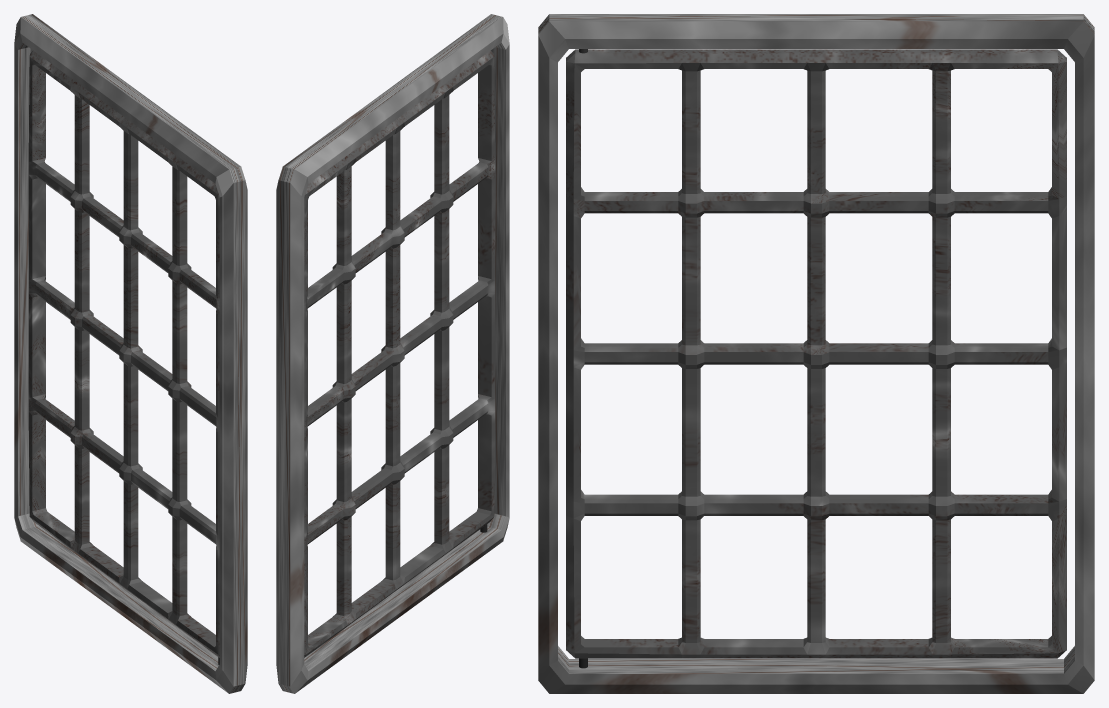
The model's file is door.fbx.
3 views of the same model, side by side, from view 1: azimuth 30°, elevation 25°; view 2: azimuth 150°, elevation 25°; view 3: azimuth 270°, elevation 25° (orthographic). The views are drawn at different scales.
Visible parts, largest first — view 1: Door, Frame; view 2: Door, Frame; view 3: Door, Frame.
Part boxes in pixels (bbox=[...]): Door: bbox=[28, 50, 219, 657]; Frame: bbox=[14, 14, 247, 693]; Door: bbox=[304, 50, 495, 657]; Frame: bbox=[276, 14, 509, 693]; Door: bbox=[566, 49, 1066, 658]; Frame: bbox=[538, 14, 1094, 693].
Bounding box in the file's own units: 20 × 400 × 300.
Materials: 4 (2 with a texture image).
